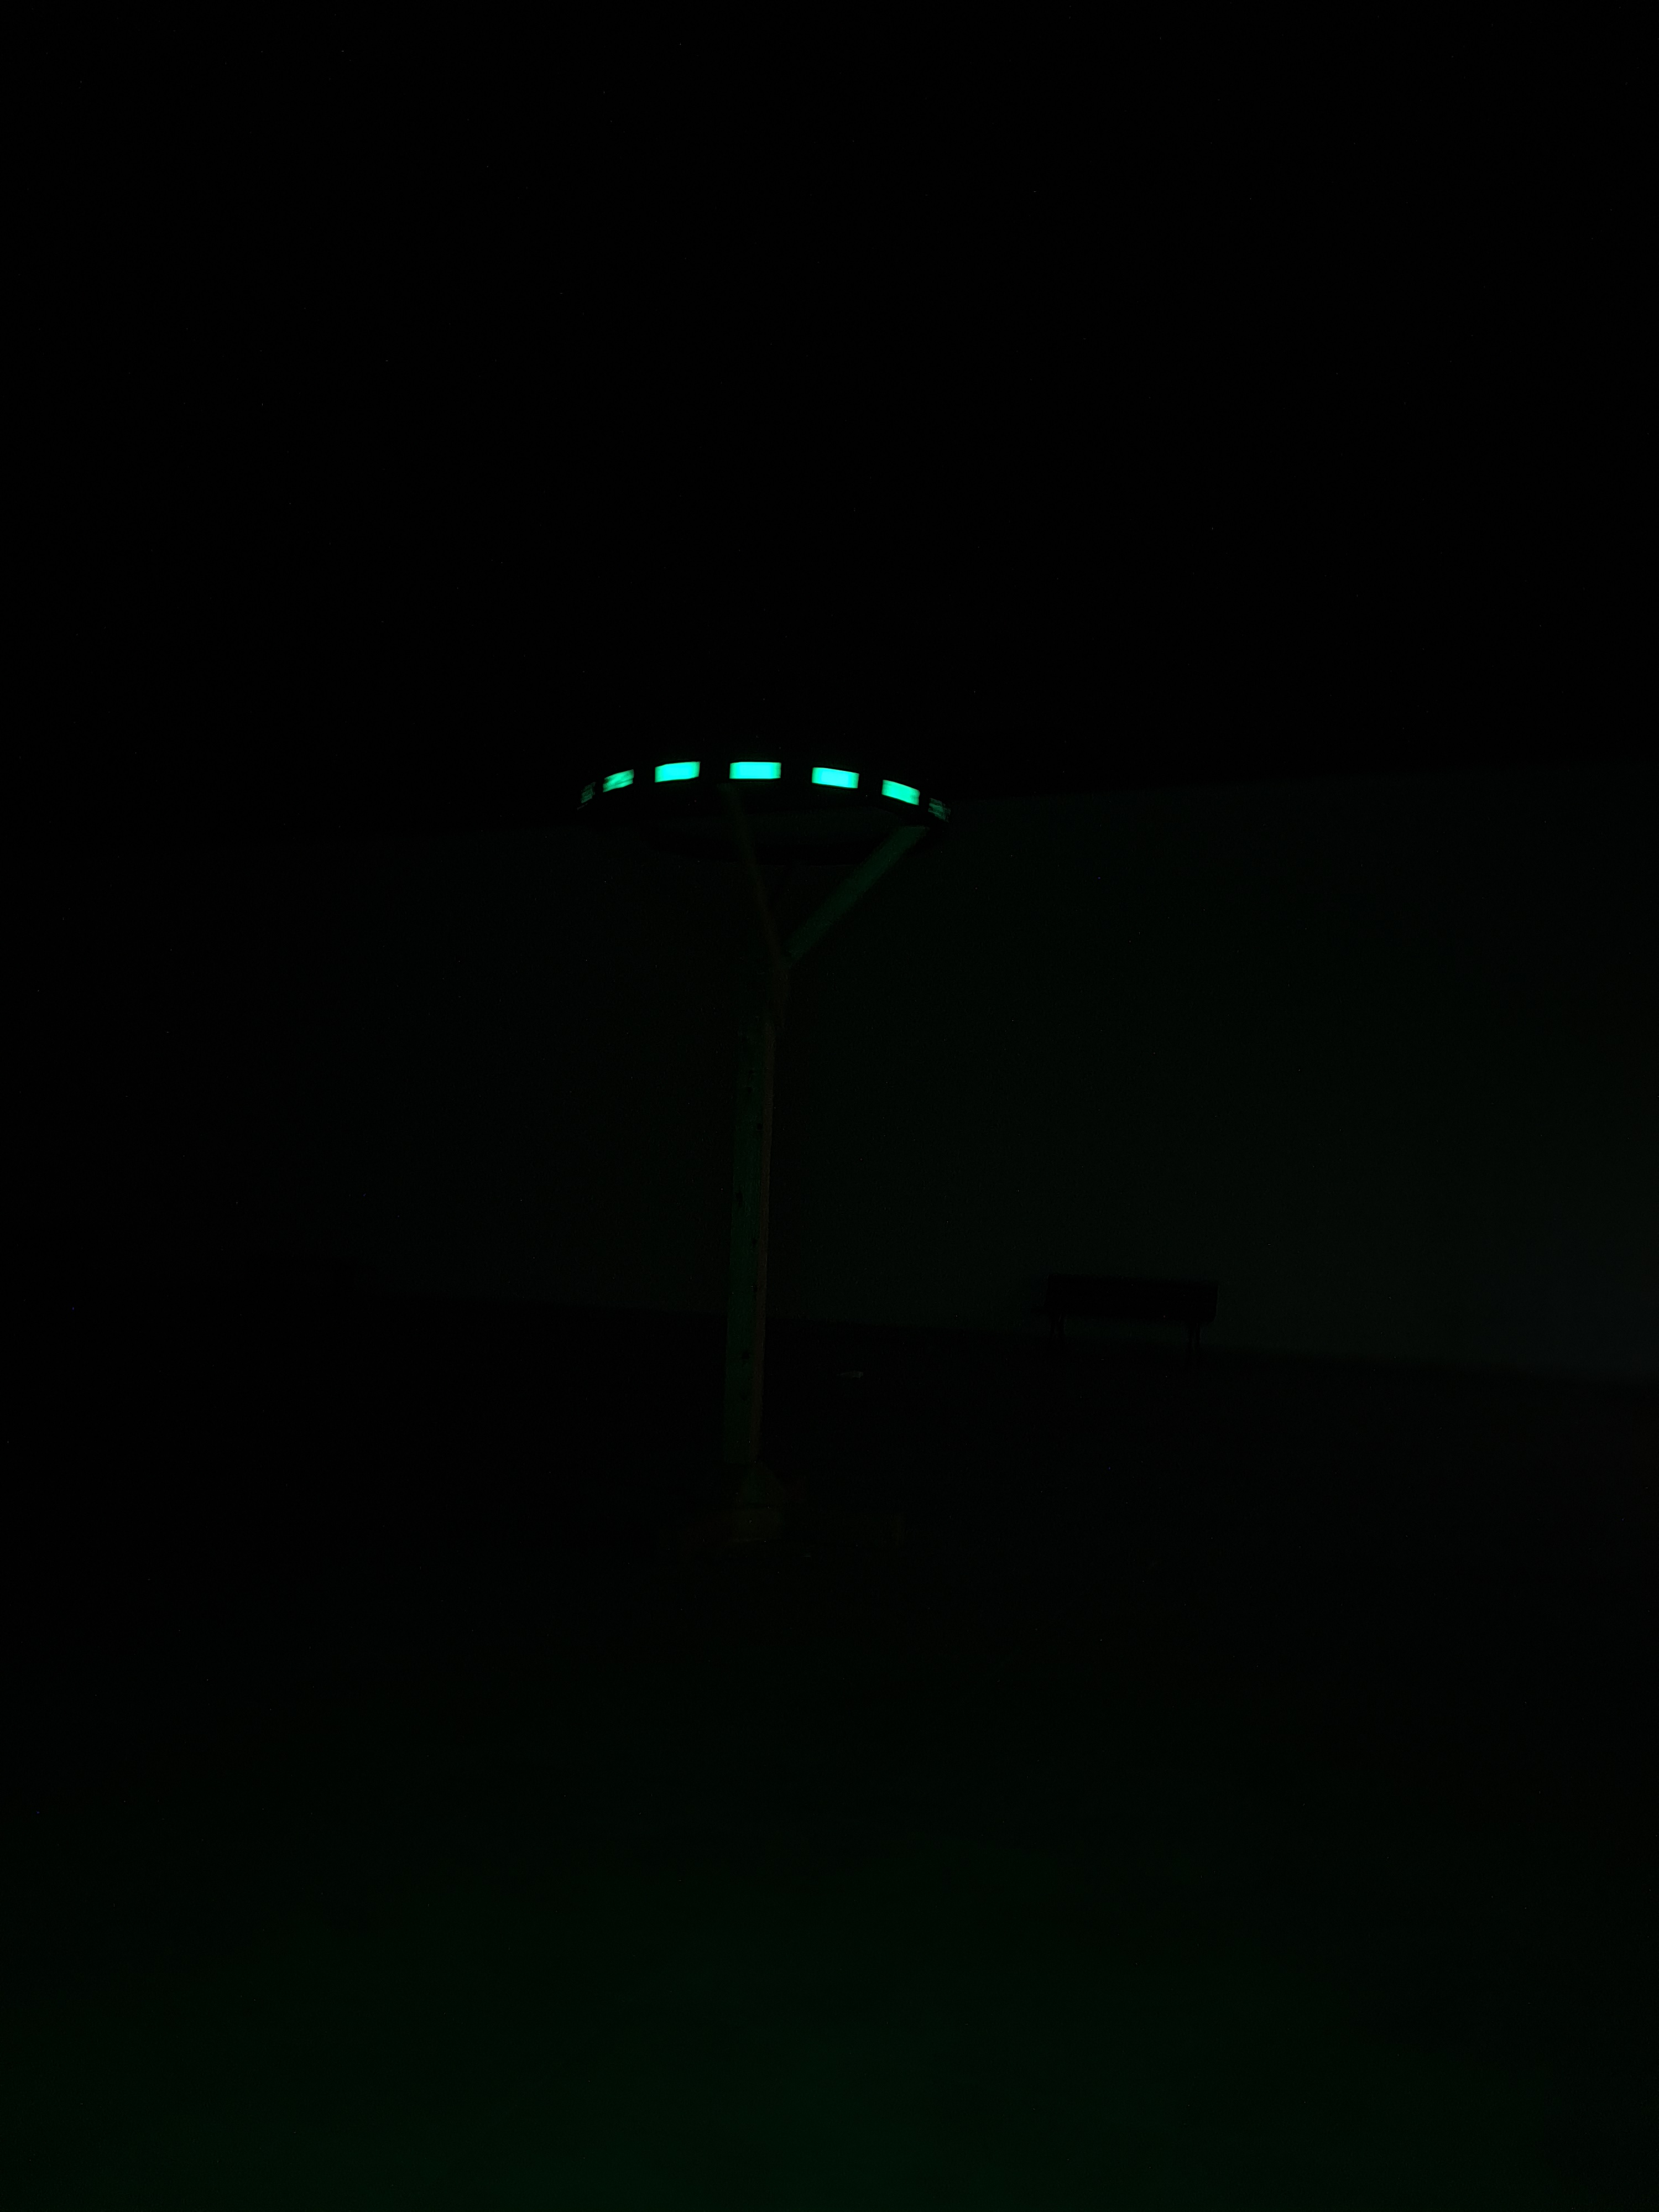hoop: (582, 751, 948, 827)
